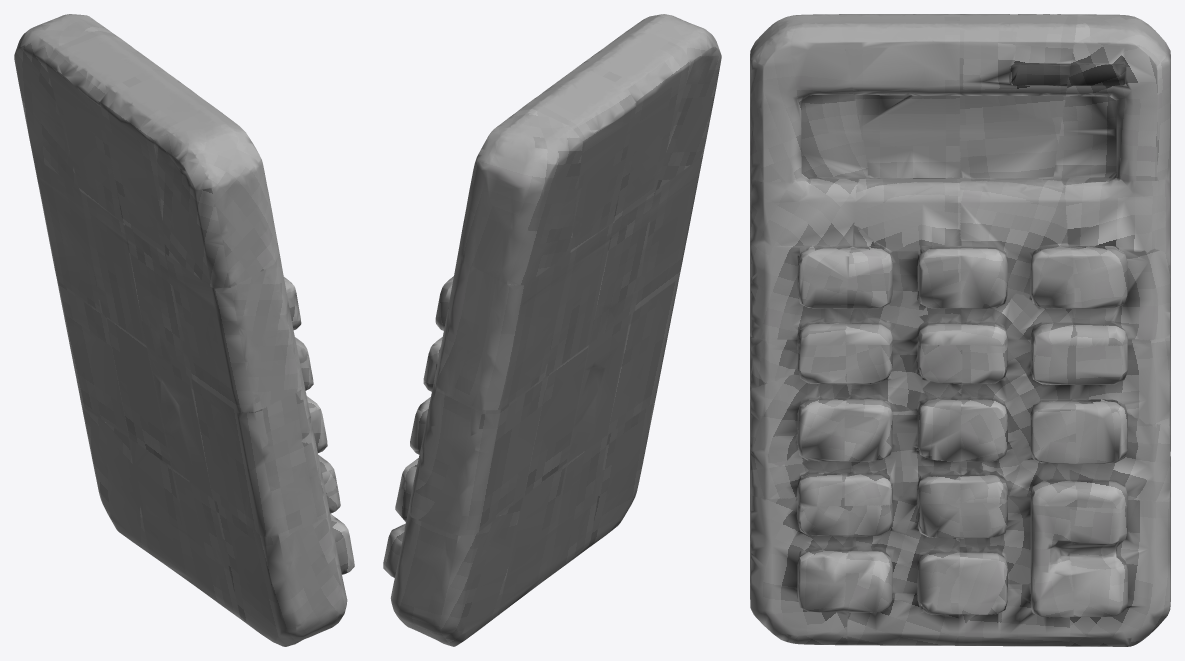
The model's file is m_calculator.glb.
The picture shows the model from 3 angles, left to right: view 1: azimuth 30°, elevation 25°; view 2: azimuth 150°, elevation 25°; view 3: azimuth 270°, elevation 25°; orthographic projection. The views are drawn at different scales.
Parts seen in each view (by area): view 1: tripo_node_27689e67-420a-41b5-9d5e-94464c07c701; view 2: tripo_node_27689e67-420a-41b5-9d5e-94464c07c701; view 3: tripo_node_27689e67-420a-41b5-9d5e-94464c07c701.
Boxes of the visible parts, x1,y1,x2,y2 form: tripo_node_27689e67-420a-41b5-9d5e-94464c07c701: (14, 14, 354, 646); tripo_node_27689e67-420a-41b5-9d5e-94464c07c701: (383, 14, 721, 646); tripo_node_27689e67-420a-41b5-9d5e-94464c07c701: (750, 14, 1170, 646).
Bounding box in the file's own units: 0.3556 × 0.9993 × 0.6577.
Materials: 1 (1 with a texture image).
